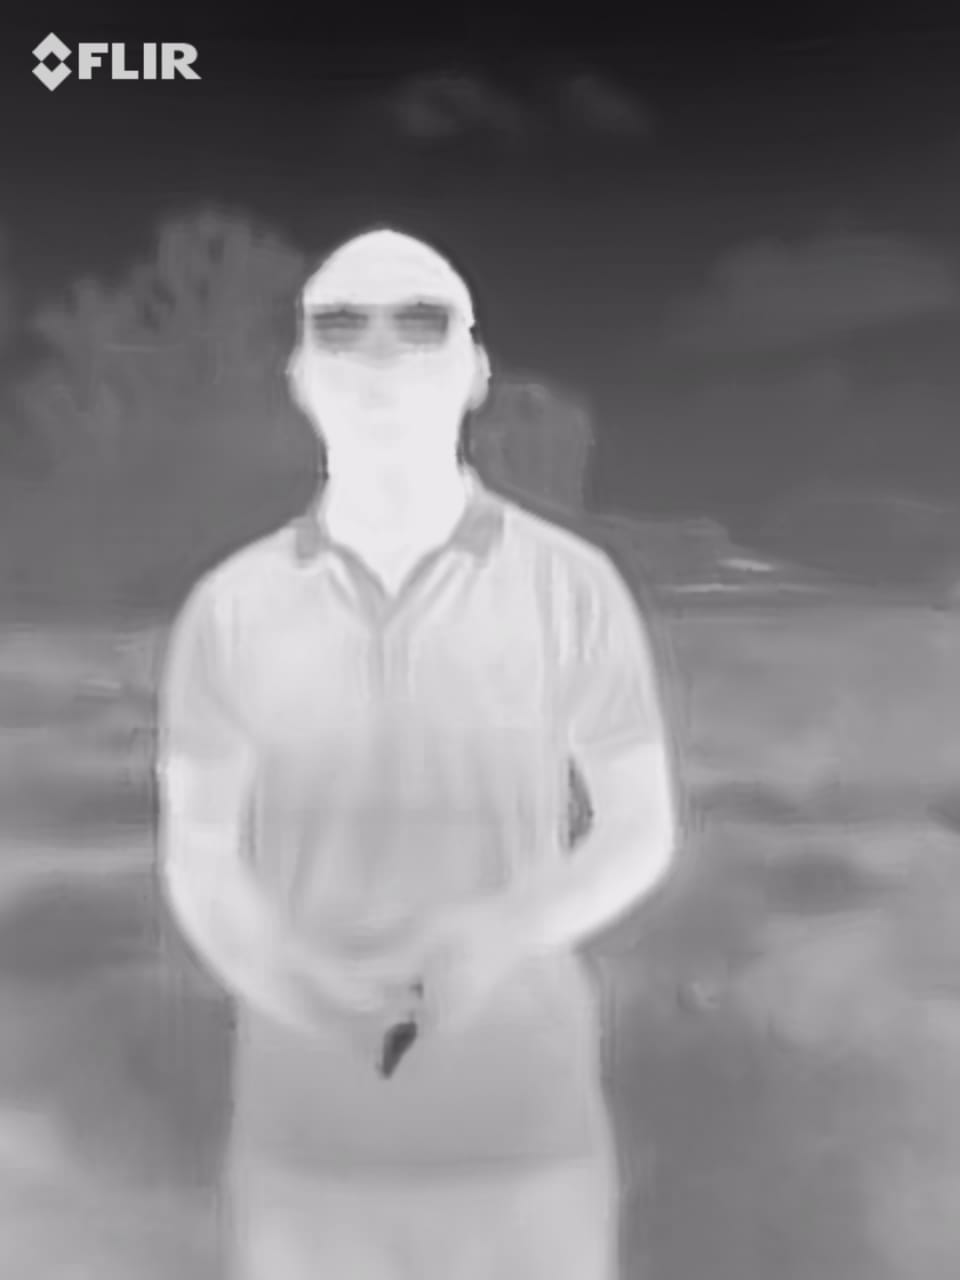head: (274, 226, 503, 521)
